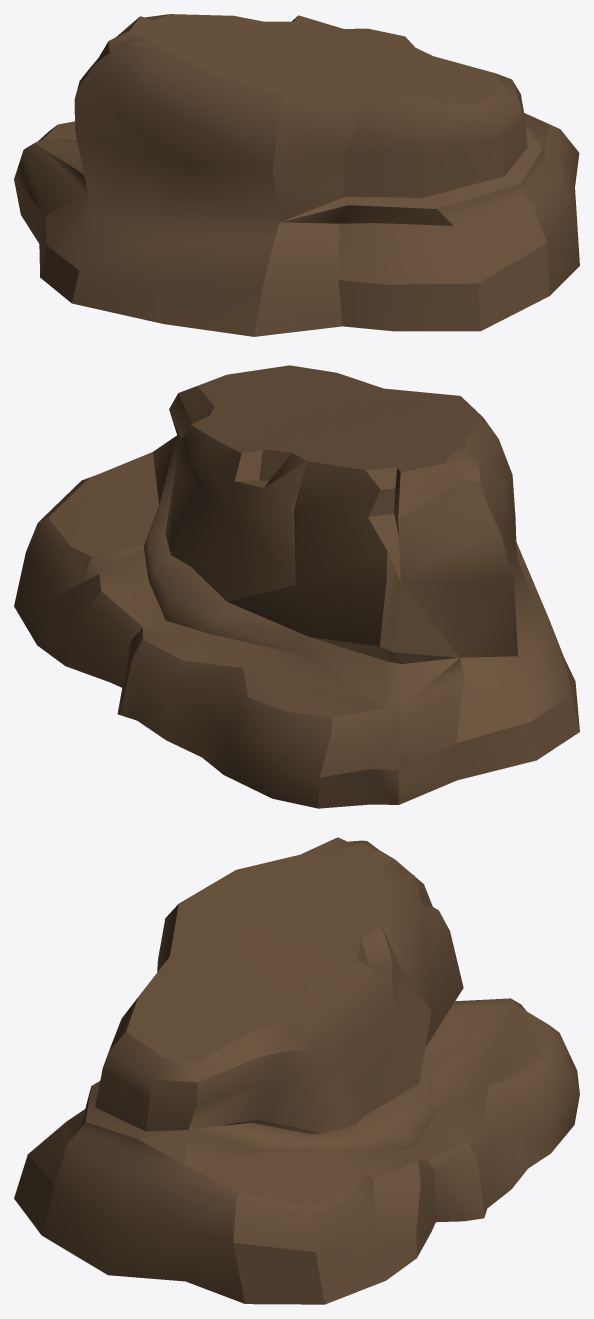
Rendered from shituo12.FBX.
The picture shows the model from 3 angles, top to bottom: view 1: azimuth 30°, elevation 25°; view 2: azimuth 150°, elevation 25°; view 3: azimuth 270°, elevation 25°; orthographic projection. The views are drawn at different scales.
Visible parts, largest first — view 1: c79; view 2: c79; view 3: c79.
Part boxes in pixels (bbox=[...]): c79: bbox=[14, 14, 579, 336]; c79: bbox=[14, 365, 579, 808]; c79: bbox=[14, 837, 579, 1304].
Bounding box in the file's own units: 1.43 × 0.6686 × 1.34.
